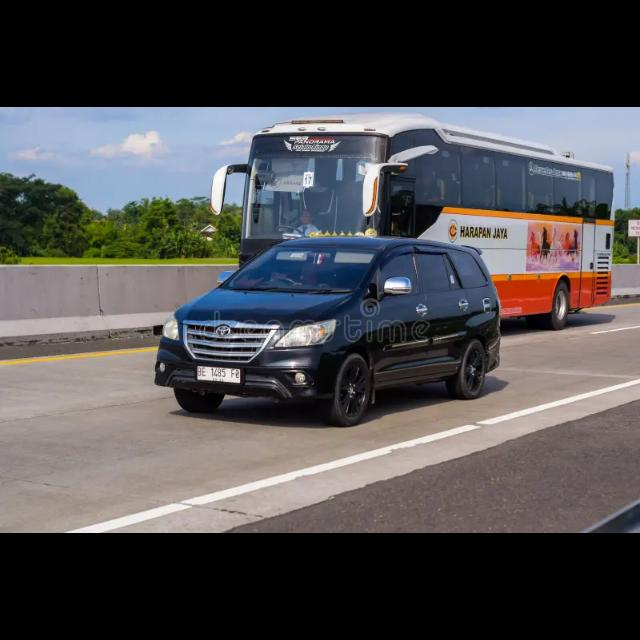vehicles: (144, 235, 500, 418)
